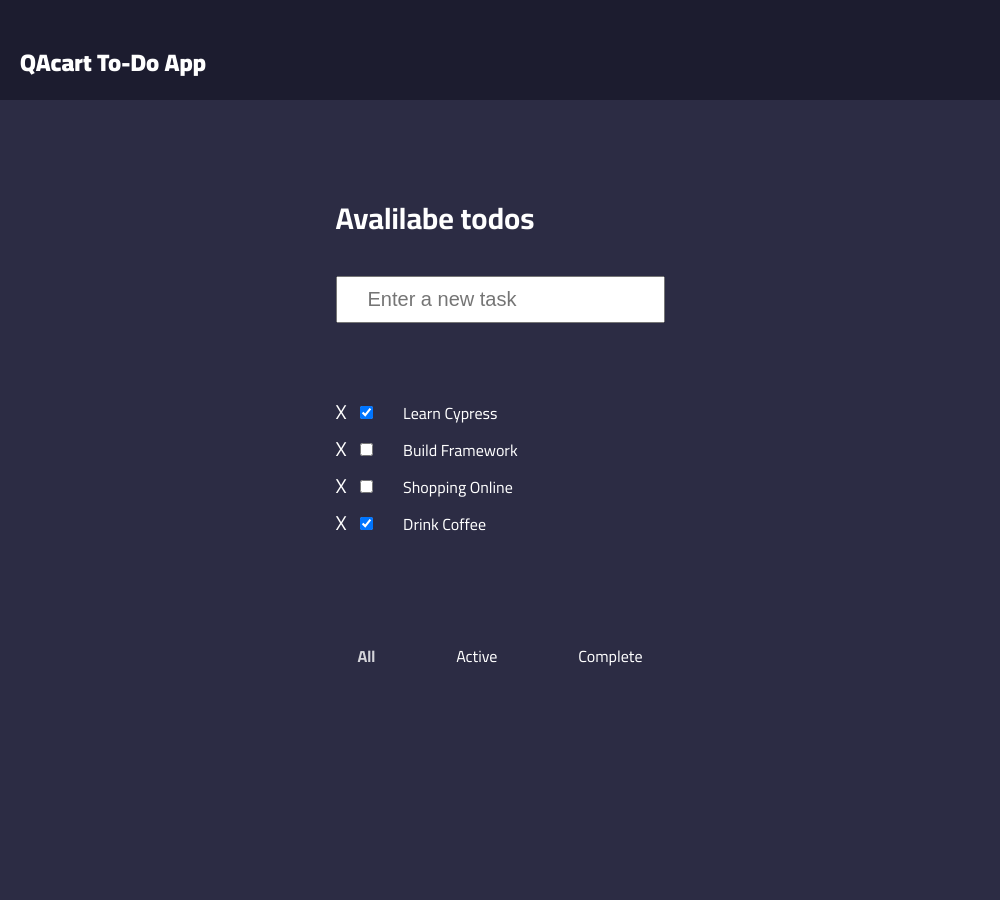
Filter functionality test cases › should filter the completed todos correctly
Click the link "Complete".
click(610, 656)  # box [576,641,644,671]
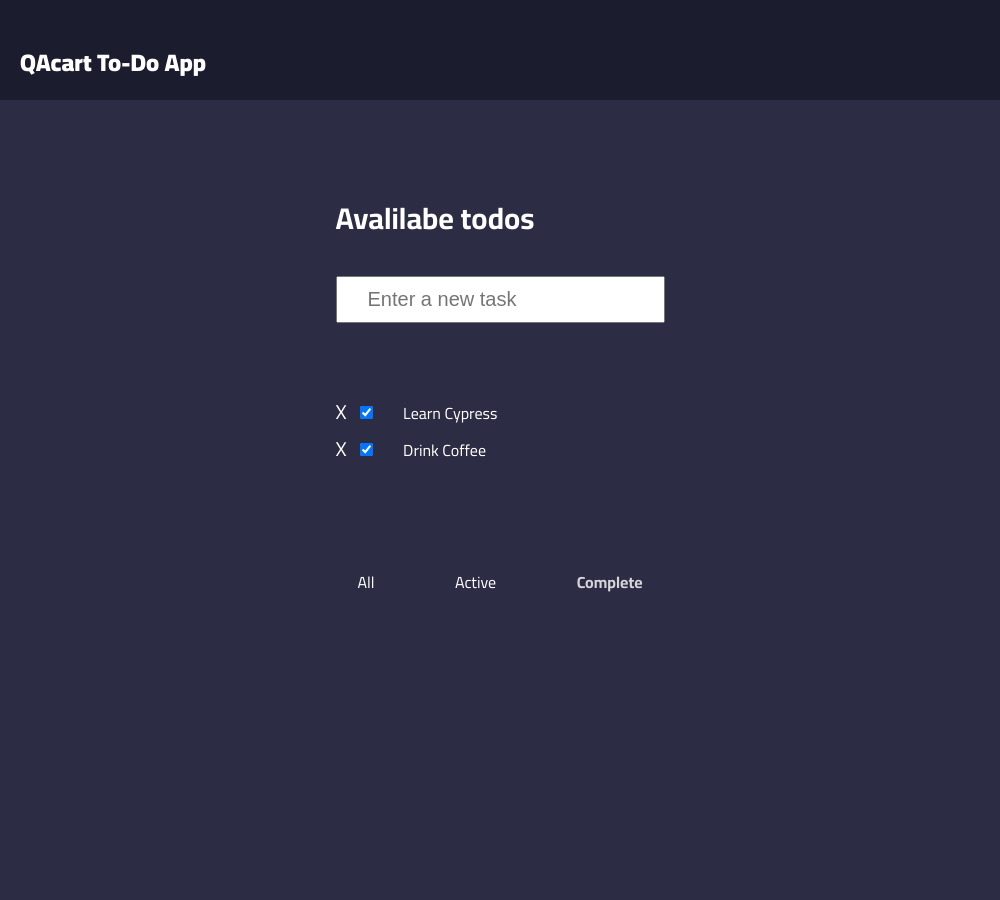
Expected: the checkbox with class "todo-checkbox" next to "Learn Cypress" is checked, [360,406,373,419]
Now the checkbox with class "todo-checkbox" next to "Drink Coffee" is checked, box [360,443,373,456]
